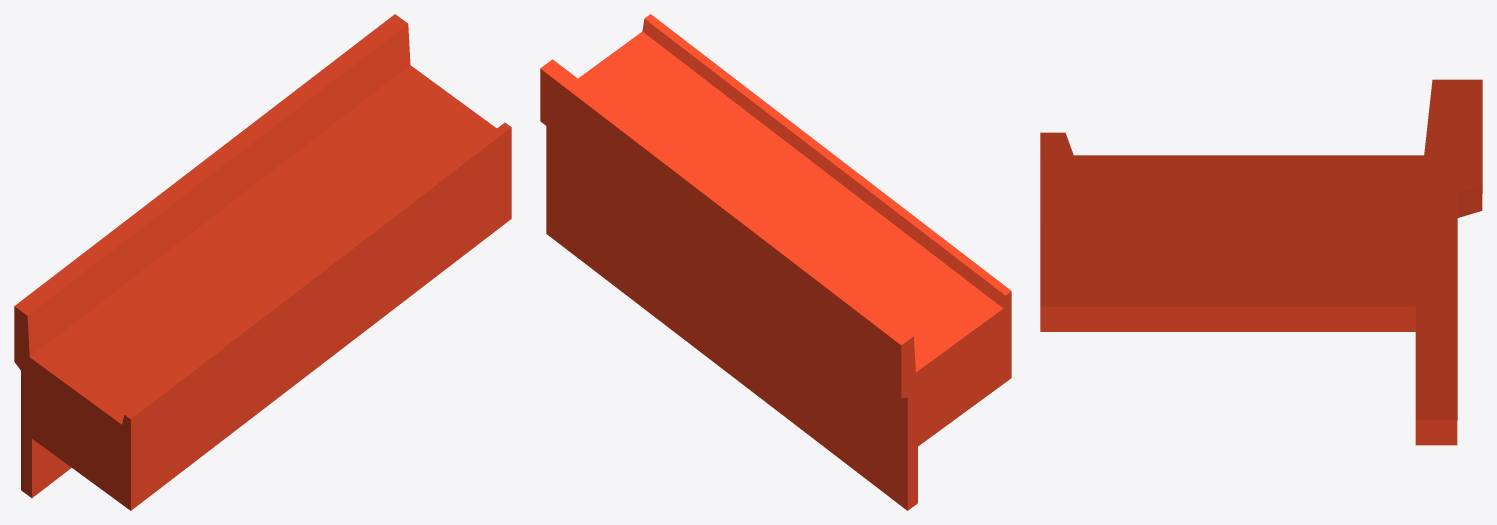
File: roof-metal-moderate-1m-front.fbx
3 views of the same model, side by side, from view 1: azimuth 30°, elevation 25°; view 2: azimuth 150°, elevation 25°; view 3: azimuth 270°, elevation 25° (orthographic). The views are drawn at different scales.
Parts seen in each view (by area): view 1: roof-metal-moderate-1m-front; view 2: roof-metal-moderate-1m-front; view 3: roof-metal-moderate-1m-front.
Part boxes in pixels (x1,y1,x2,y2): roof-metal-moderate-1m-front: [14, 14, 511, 510]; roof-metal-moderate-1m-front: [540, 14, 1011, 510]; roof-metal-moderate-1m-front: [1040, 79, 1482, 445].
Bounding box in the file's own units: 1 × 0.9502 × 0.5301.
